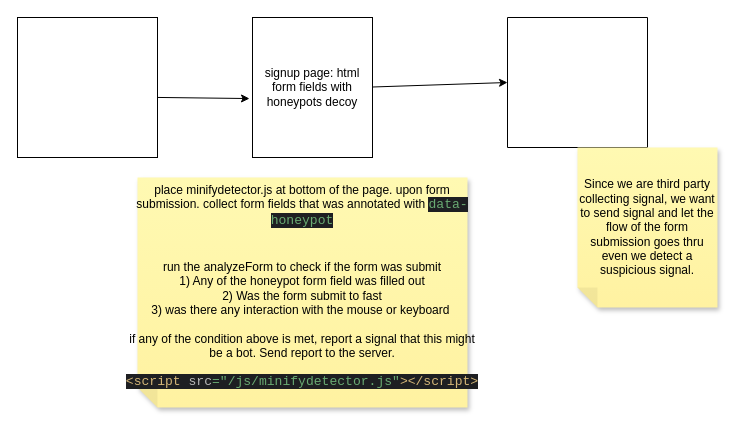
The diagram is 741 pixels wide and 432 high, and some of its shapes have lost their labels. The shapes that lost their labels are listed below. From the top down, each one's centre as x and y in pixels, then its label:
[87,87]: http://localhost:8080
[577,82]: Confirmation page. Form was submit.
